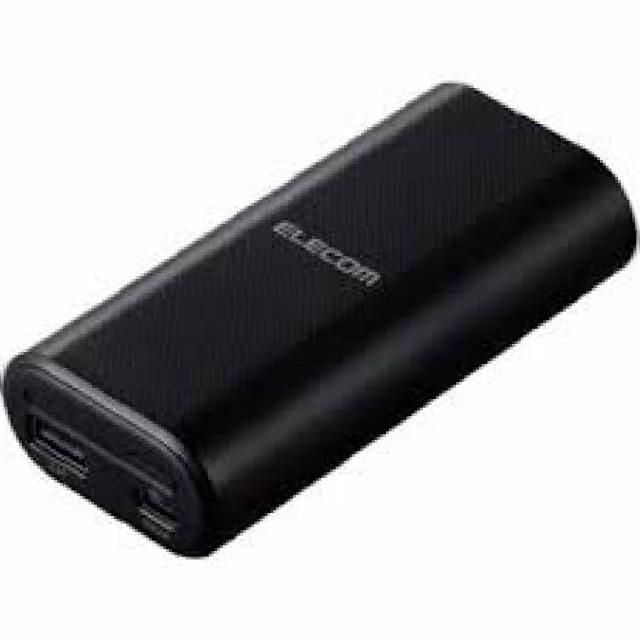Battery: (3, 64, 640, 564)
